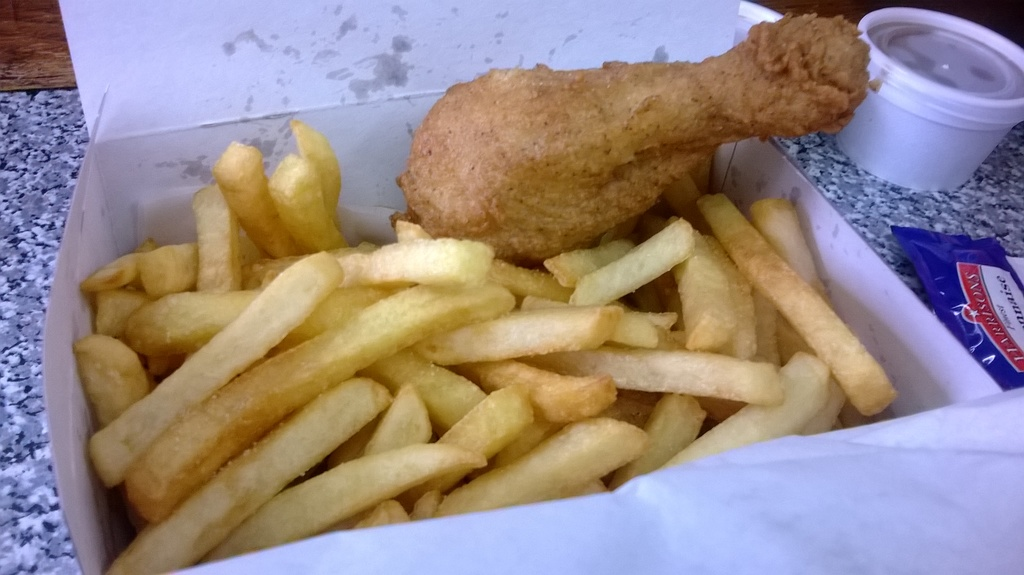French fries: (63, 110, 926, 546)
